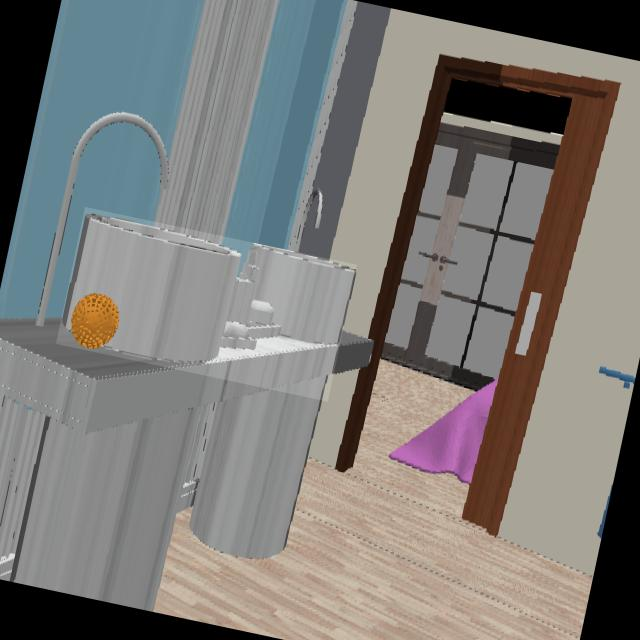washbasin: (62, 214, 355, 369)
